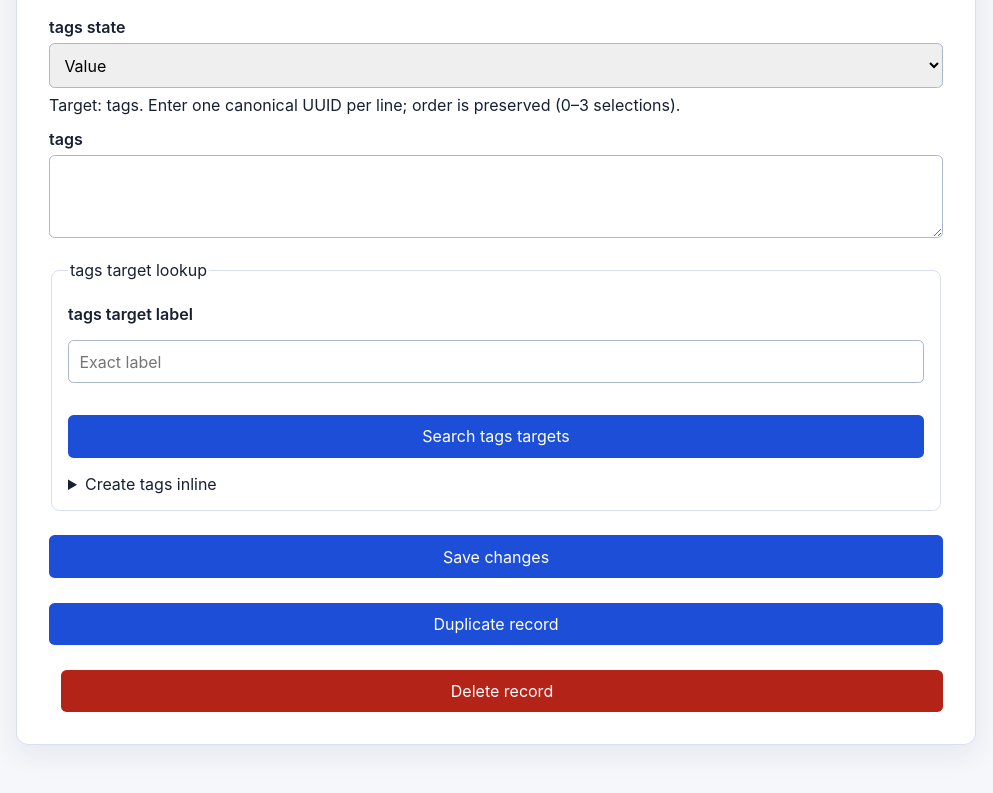
record editor page › creates a relation target inline through the normal record create contract
(page scrolled)
Click the heading "Create tags inline" at (151, 484), box [85,474,217,494]
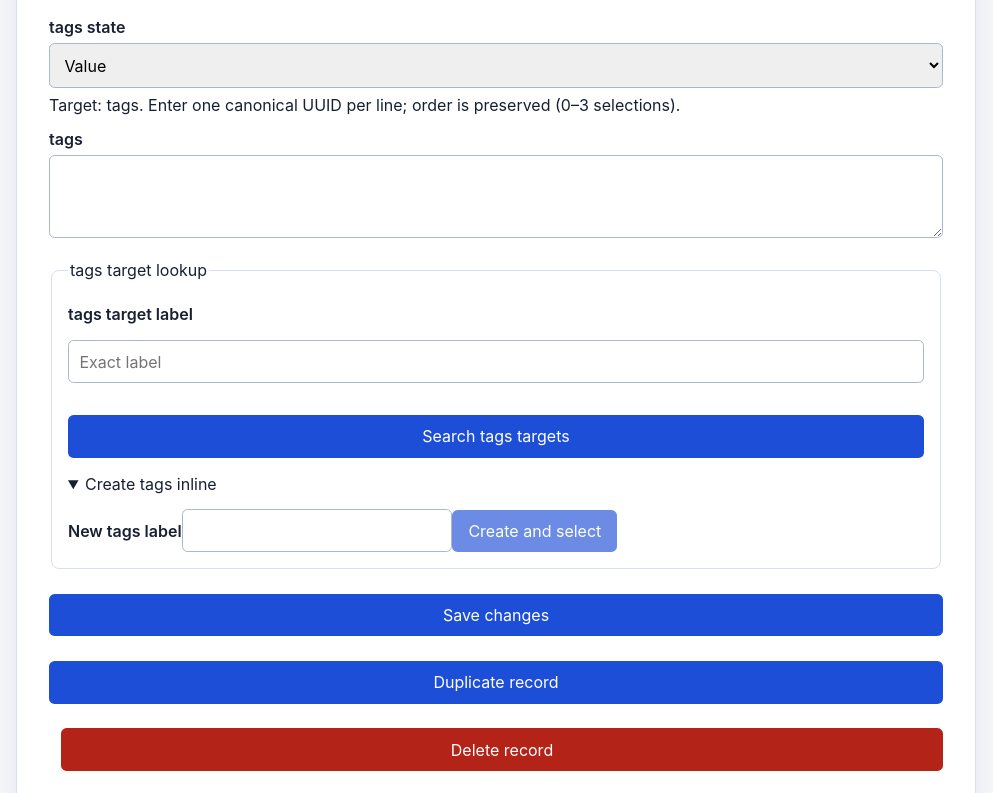
Type "new tag" into the field labelled "New tags label" at (317, 531), box [182,509,452,552]
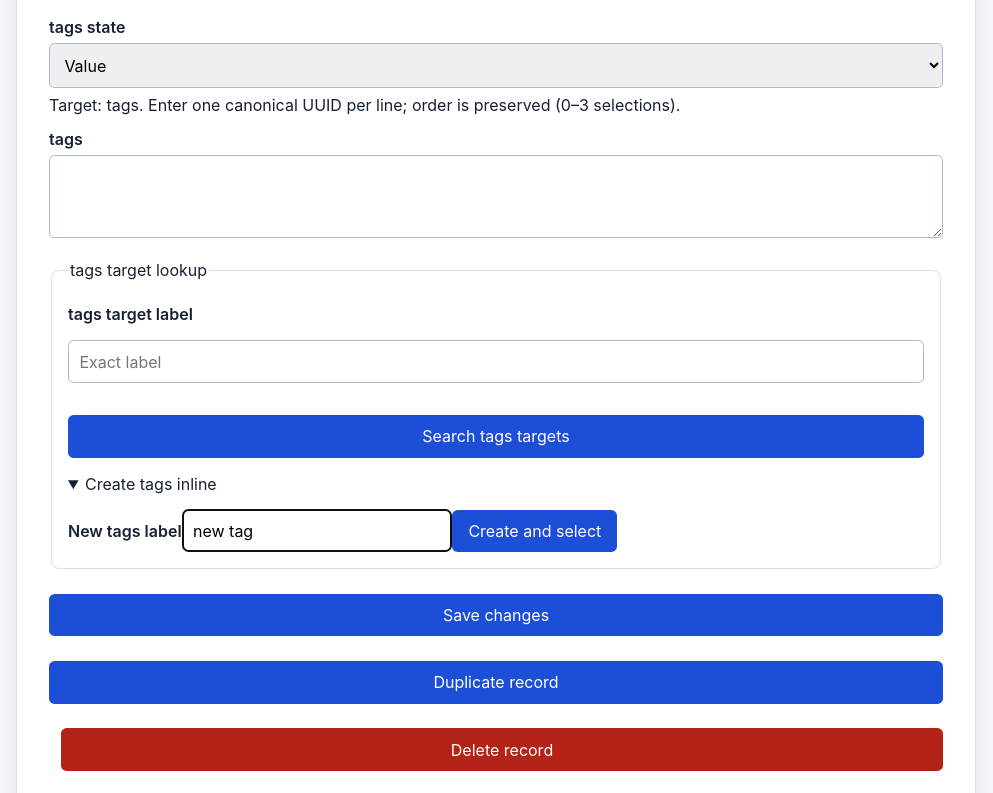
Click the button "Create and select" at (535, 531), box [452,510,617,552]
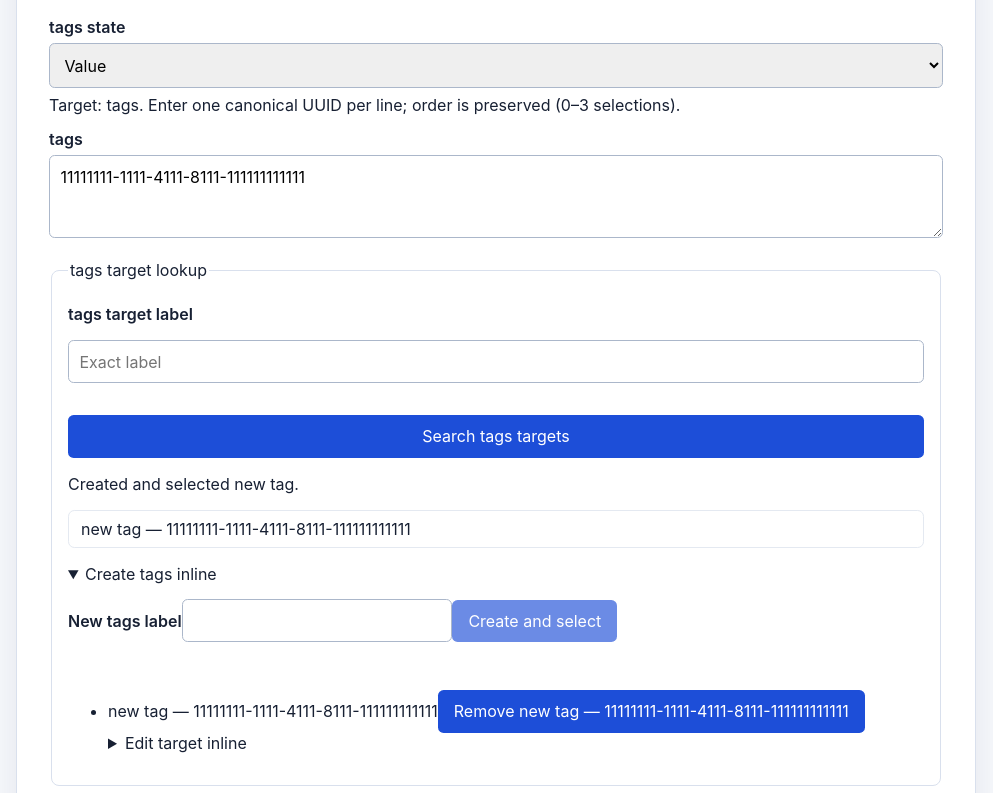
expect the text box labelled "tags" holds "11111111-1111-4111-8111-111111111111": met, box [49,155,943,238]
